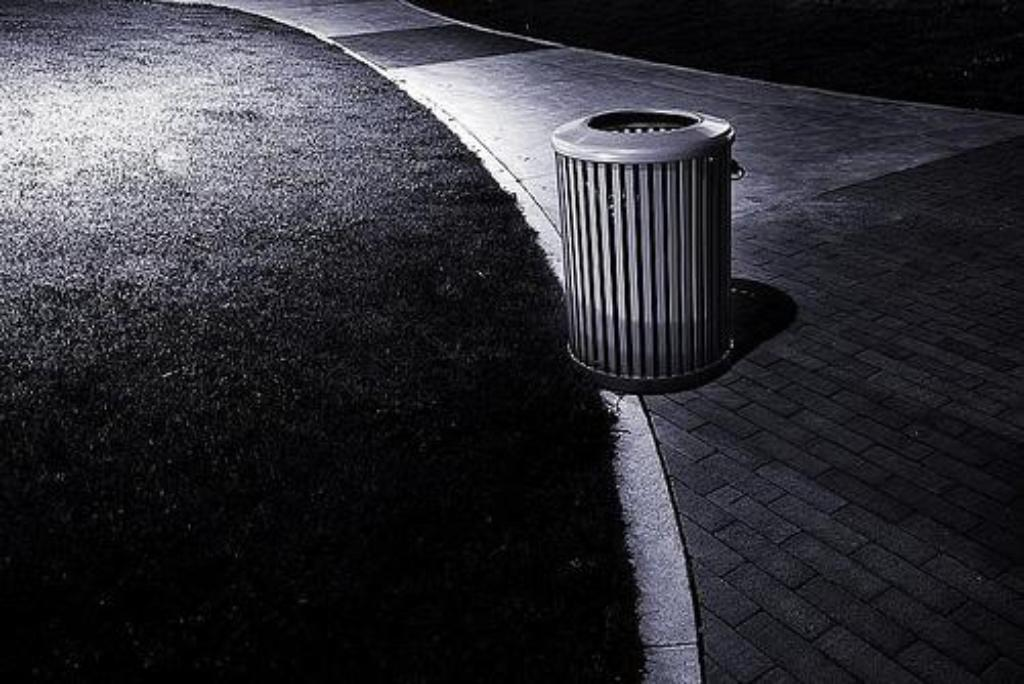dustbin: (547, 103, 754, 402)
